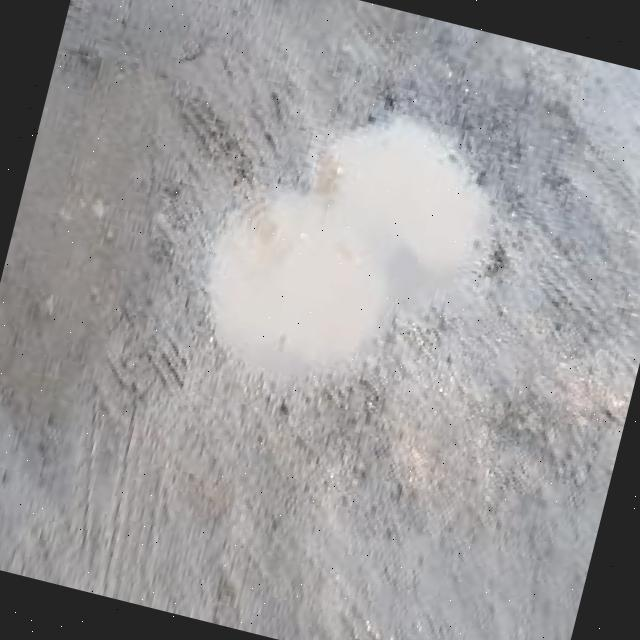waterlogging: (157, 40, 548, 451)
